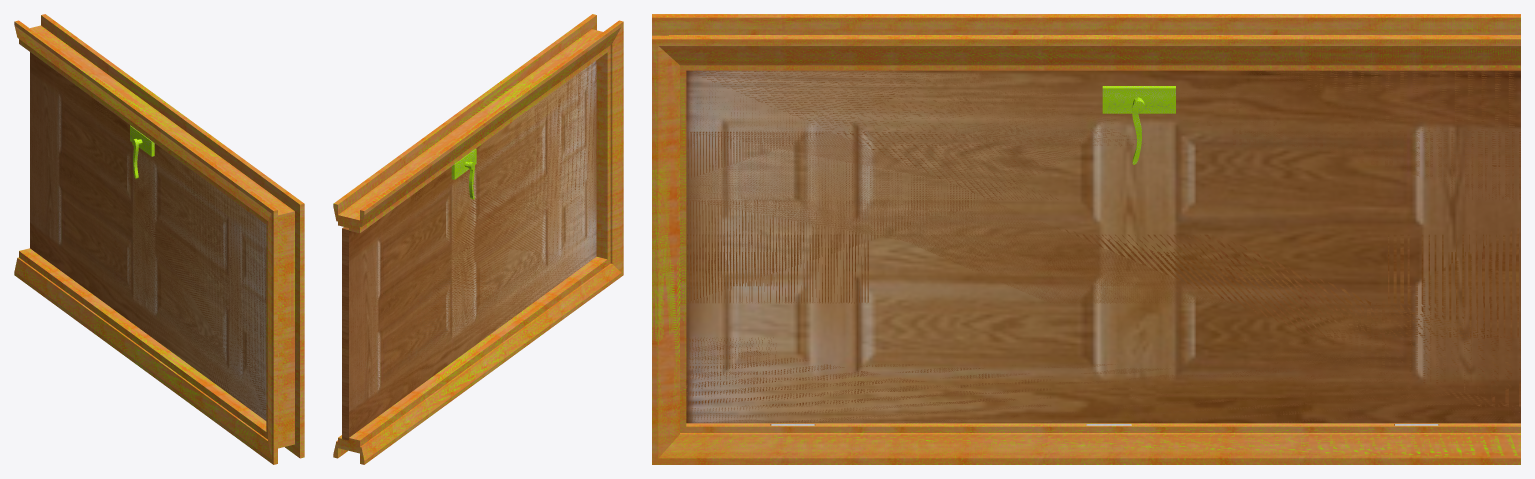
Rendered from wood-door2.fbx.
3 views of the same model, side by side, from view 1: azimuth 30°, elevation 25°; view 2: azimuth 150°, elevation 25°; view 3: azimuth 270°, elevation 25° (orthographic). The views are drawn at different scales.
Visible parts, largest first — view 1: Material2.002, Material2, Material2.003, Material2.001; view 2: Material2.002, Material2, Material2.003, Material2.001; view 3: Material2.002, Material2, Material2.003, Material2.001.
Part boxes in pixels (box(x1,y1,x2,y2)): Material2.002: box(30, 52, 266, 420); Material2: box(14, 14, 304, 464); Material2.003: box(30, 55, 266, 420); Material2.001: box(14, 15, 304, 463); Material2.002: box(349, 60, 596, 437); Material2: box(333, 14, 623, 464); Material2.003: box(342, 61, 596, 440); Material2.001: box(333, 17, 623, 463); Material2.002: box(686, 70, 1520, 423); Material2: box(652, 14, 1520, 464); Material2.003: box(686, 70, 1520, 425); Material2.001: box(652, 14, 1520, 464).
Size of the model in its own units: 5.81 by 43.2 by 79.92.
7 materials, 6 textured.
